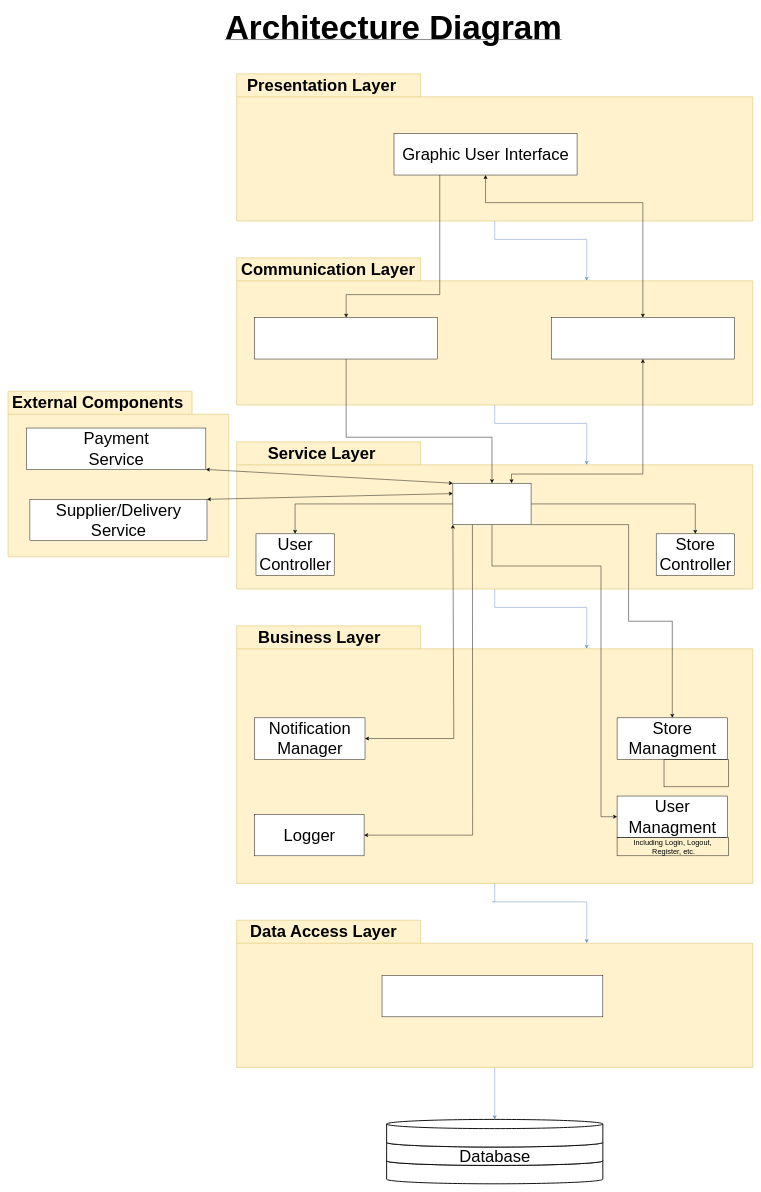
This 761x1192 diagram has some shape labels left out. Here are the shapes that lost their labels. From the top down, the centre of each, then its label:
At point (346, 338): "BigController".
At point (642, 338): "NotificationController".
At point (491, 504): "Big Controller".
At point (696, 773): "Including OpeningStore, EditStore, etc .".
At point (492, 996): "Object Relation Mapping".
